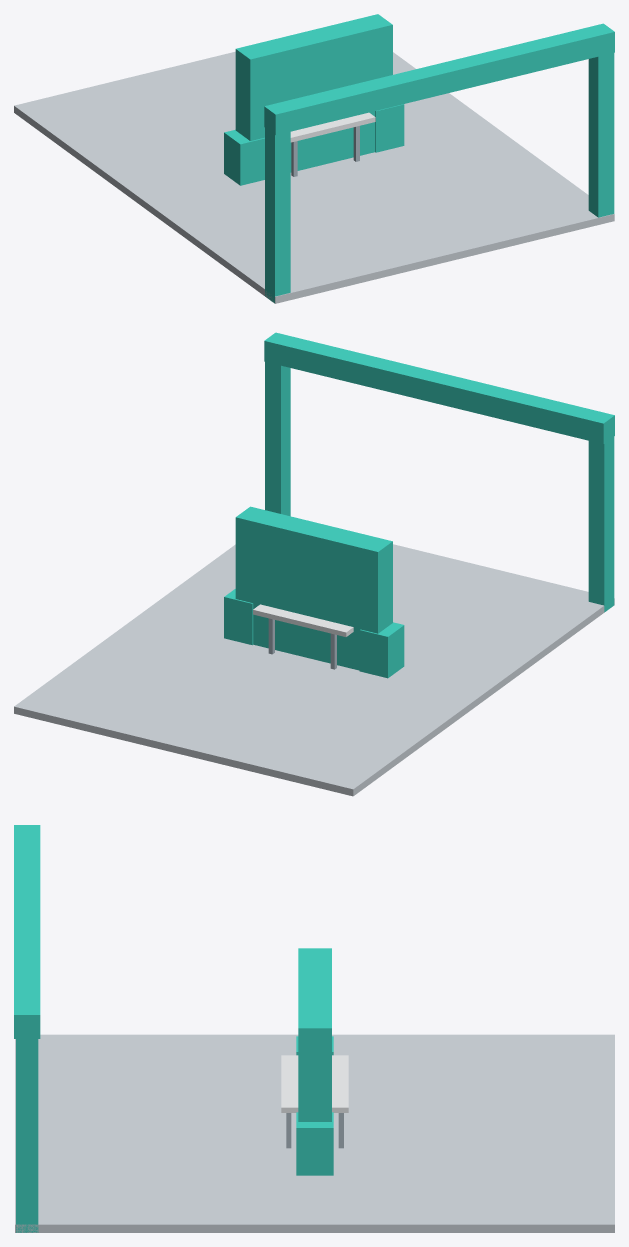
3 renders of one model, top to bottom at view 1: azimuth 30°, elevation 25°; view 2: azimuth 150°, elevation 25°; view 3: azimuth 270°, elevation 25°, orthographic. The views are drawn at different scales.
Visible parts, largest first — view 1: Exhibition Booth Concept; view 2: Exhibition Booth Concept; view 3: Exhibition Booth Concept.
Boxes of the visible parts, left/top/right/bottom form: Exhibition Booth Concept: left=14, top=14, right=614, bottom=303; Exhibition Booth Concept: left=14, top=332, right=614, bottom=796; Exhibition Booth Concept: left=14, top=825, right=614, bottom=1232.
Size of the model in its own units: 6 by 3.2 by 8.01.
